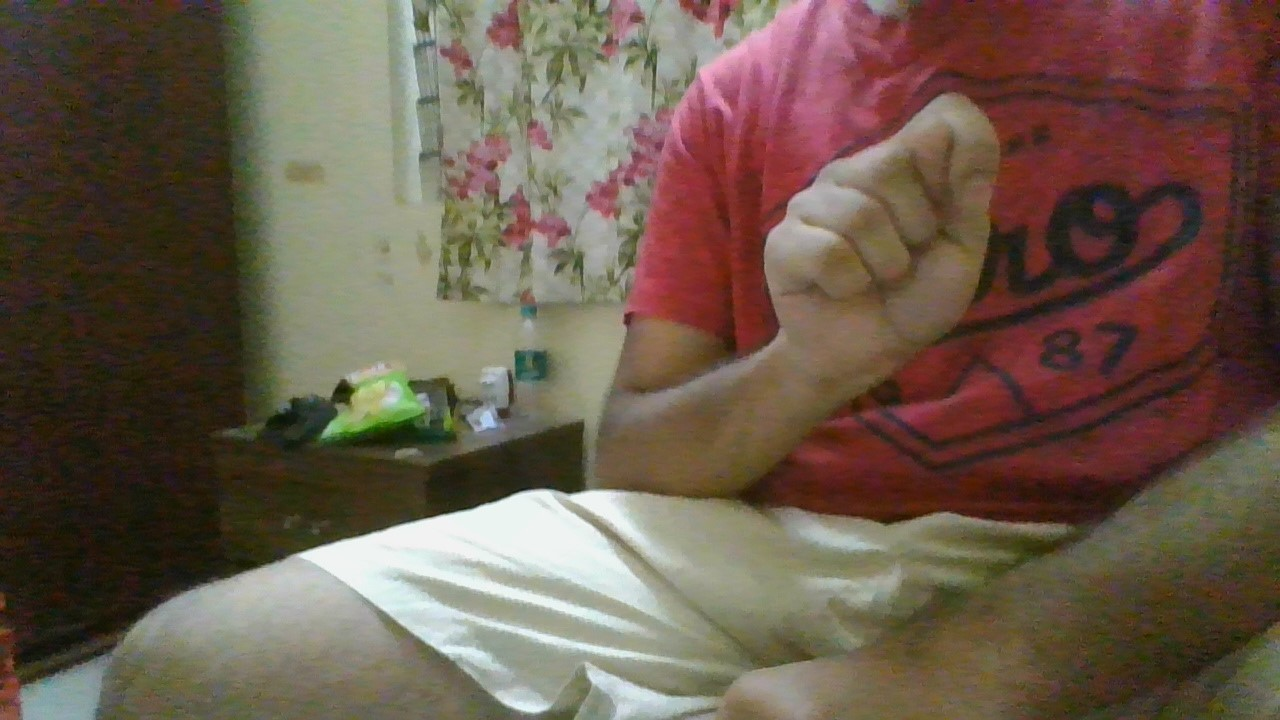t: (757, 86, 1008, 368)
